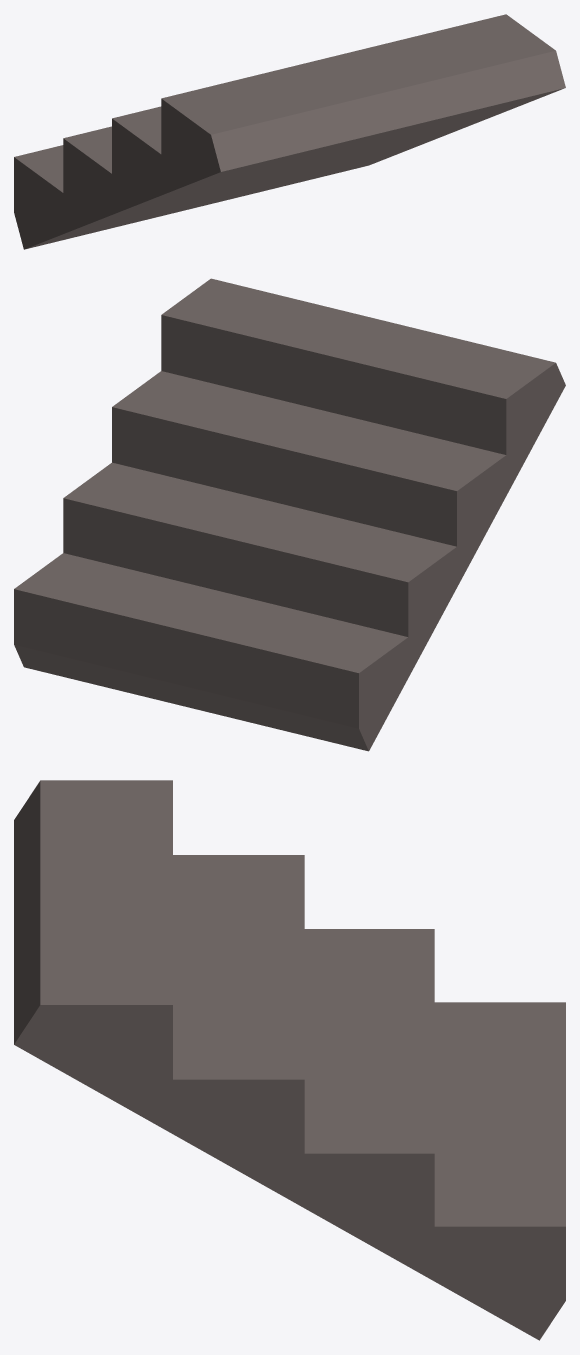
File: DoorStair.glb
3 renders of one model, top to bottom at view 1: azimuth 30°, elevation 25°; view 2: azimuth 150°, elevation 25°; view 3: azimuth 270°, elevation 25°, orthographic. The views are drawn at different scales.
Parts seen in each view (by area): view 1: stair; view 2: stair; view 3: stair.
Boxes of the visible parts, x1,y1,x2,y2 form: stair: (14,14,565,249); stair: (14,278,565,751); stair: (14,780,565,1340).
Bounding box in the file's own units: 1.62 × 1.13 × 1.69.
Materials: 1 (1 with a texture image).
